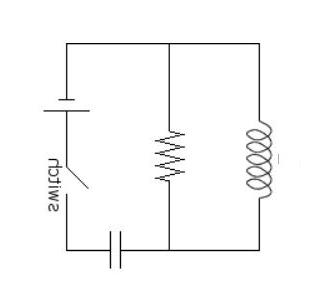resistor: (146, 109, 201, 193)
